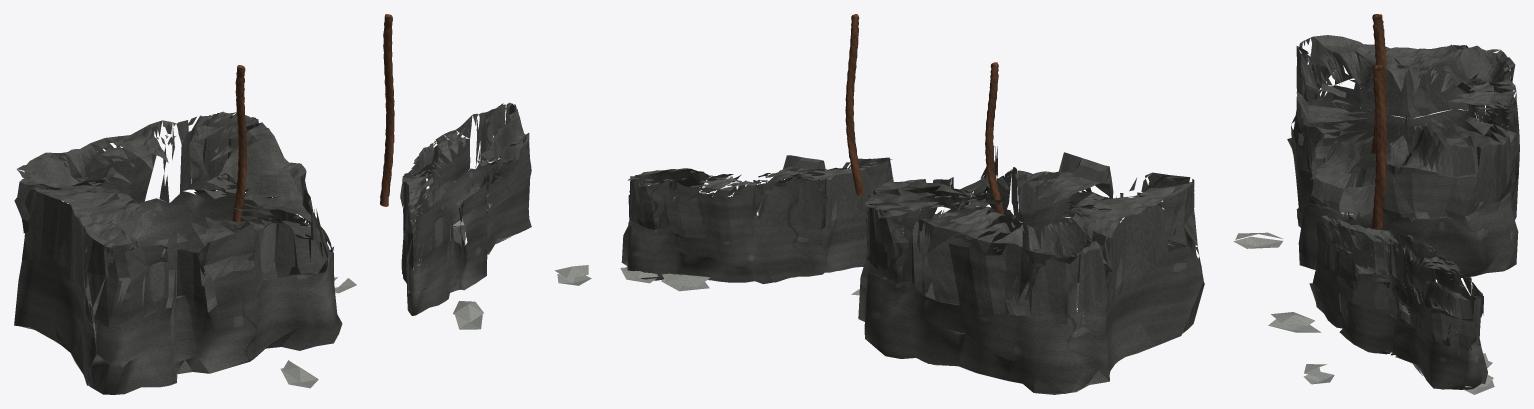
The model's file is lod2_NOT_APPROVED.glb.
The picture shows the model from 3 angles, left to right: view 1: azimuth 30°, elevation 25°; view 2: azimuth 150°, elevation 25°; view 3: azimuth 270°, elevation 25°; orthographic projection. The views are drawn at different scales.
Visible parts, largest first — view 1: F3_CONCRETE_BROKEN_INTERIOR_WITH_EMBEDDED_STONES_surface, F3_CONCRETE_BROKEN_INTERIOR_WITH_EMBEDDED_STONES.001_surface, F3_OLD_CONCRETE_INTACT_AND_FRACTURE_surface, F3_OLD_CONCRETE_INTACT_AND_FRACTURE.001_surface, f3_exposed_aggregate_surface, oxidized_reinforcing_steel.001_surface, oxidized_reinforcing_steel_surface; view 2: F3_CONCRETE_BROKEN_INTERIOR_WITH_EMBEDDED_STONES_surface, F3_CONCRETE_BROKEN_INTERIOR_WITH_EMBEDDED_STONES.001_surface, F3_OLD_CONCRETE_INTACT_AND_FRACTURE_surface, F3_OLD_CONCRETE_INTACT_AND_FRACTURE.001_surface, oxidized_reinforcing_steel.001_surface, oxidized_reinforcing_steel_surface, f3_exposed_aggregate_surface; view 3: F3_CONCRETE_BROKEN_INTERIOR_WITH_EMBEDDED_STONES_surface, F3_CONCRETE_BROKEN_INTERIOR_WITH_EMBEDDED_STONES.001_surface, F3_OLD_CONCRETE_INTACT_AND_FRACTURE_surface, F3_OLD_CONCRETE_INTACT_AND_FRACTURE.001_surface, f3_exposed_aggregate_surface, oxidized_reinforcing_steel.001_surface, oxidized_reinforcing_steel_surface.
Part boxes in pixels (x1,y1,x2,y2): F3_CONCRETE_BROKEN_INTERIOR_WITH_EMBEDDED_STONES_surface: [14, 111, 342, 394]; F3_CONCRETE_BROKEN_INTERIOR_WITH_EMBEDDED_STONES.001_surface: [400, 102, 531, 315]; F3_OLD_CONCRETE_INTACT_AND_FRACTURE_surface: [20, 125, 322, 387]; F3_OLD_CONCRETE_INTACT_AND_FRACTURE.001_surface: [403, 114, 529, 300]; f3_exposed_aggregate_surface: [90, 203, 591, 388]; oxidized_reinforcing_steel.001_surface: [380, 14, 394, 206]; oxidized_reinforcing_steel_surface: [232, 65, 246, 227]; F3_CONCRETE_BROKEN_INTERIOR_WITH_EMBEDDED_STONES_surface: [858, 146, 1204, 393]; F3_CONCRETE_BROKEN_INTERIOR_WITH_EMBEDDED_STONES.001_surface: [621, 155, 895, 283]; F3_OLD_CONCRETE_INTACT_AND_FRACTURE_surface: [883, 173, 1192, 394]; F3_OLD_CONCRETE_INTACT_AND_FRACTURE.001_surface: [643, 159, 890, 282]; oxidized_reinforcing_steel.001_surface: [845, 14, 864, 195]; oxidized_reinforcing_steel_surface: [985, 62, 1003, 214]; f3_exposed_aggregate_surface: [620, 210, 859, 295]; F3_CONCRETE_BROKEN_INTERIOR_WITH_EMBEDDED_STONES_surface: [1287, 37, 1519, 284]; F3_CONCRETE_BROKEN_INTERIOR_WITH_EMBEDDED_STONES.001_surface: [1309, 215, 1487, 389]; F3_OLD_CONCRETE_INTACT_AND_FRACTURE_surface: [1297, 35, 1515, 276]; F3_OLD_CONCRETE_INTACT_AND_FRACTURE.001_surface: [1322, 215, 1471, 389]; f3_exposed_aggregate_surface: [1233, 232, 1494, 394]; oxidized_reinforcing_steel.001_surface: [1371, 65, 1386, 229]; oxidized_reinforcing_steel_surface: [1371, 14, 1386, 154].
Bounding box in the file's own units: 2.2 × 1.13 × 1.17.
7 materials, 7 textured.
